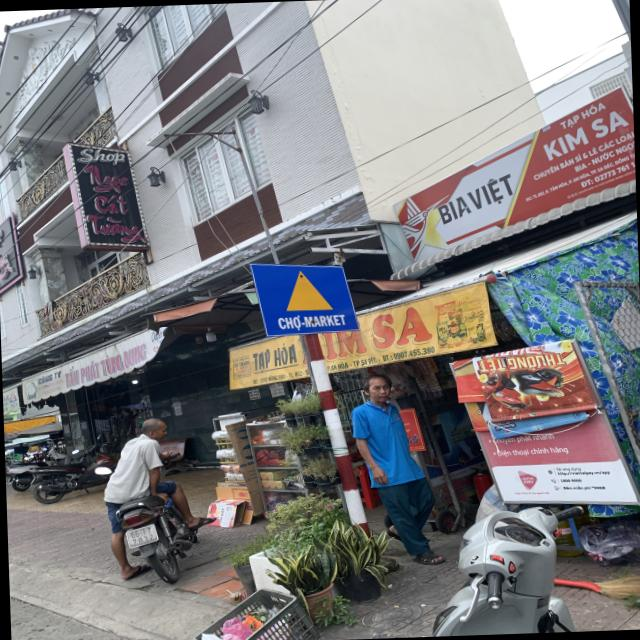Cho_Quay_Xe: (250, 257, 359, 336)
